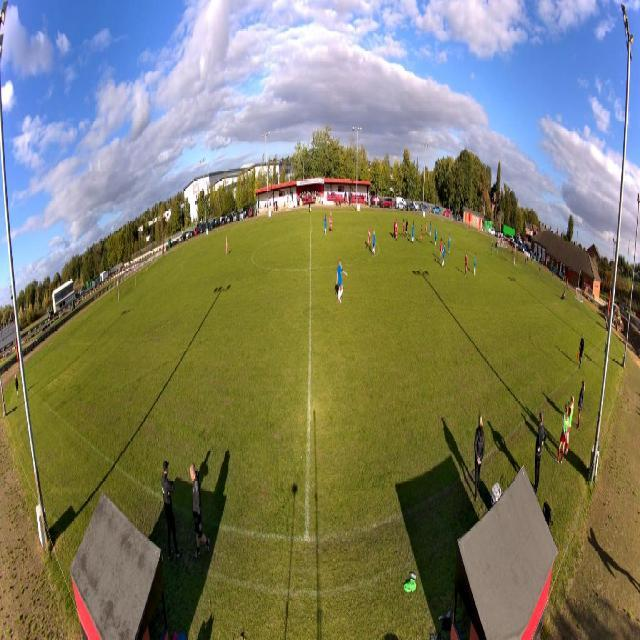player: (335, 258, 348, 305), (366, 225, 372, 251), (372, 230, 377, 258), (441, 241, 446, 268), (328, 212, 334, 233), (464, 252, 468, 278), (392, 216, 396, 240), (439, 238, 443, 262), (324, 214, 328, 236), (411, 223, 415, 245), (411, 220, 415, 241), (434, 226, 438, 247), (225, 236, 229, 255), (474, 252, 477, 277), (448, 232, 451, 256), (395, 219, 398, 241), (405, 218, 408, 239), (402, 218, 405, 238), (420, 224, 423, 244), (425, 220, 428, 239), (429, 220, 432, 238), (491, 240, 494, 258)
